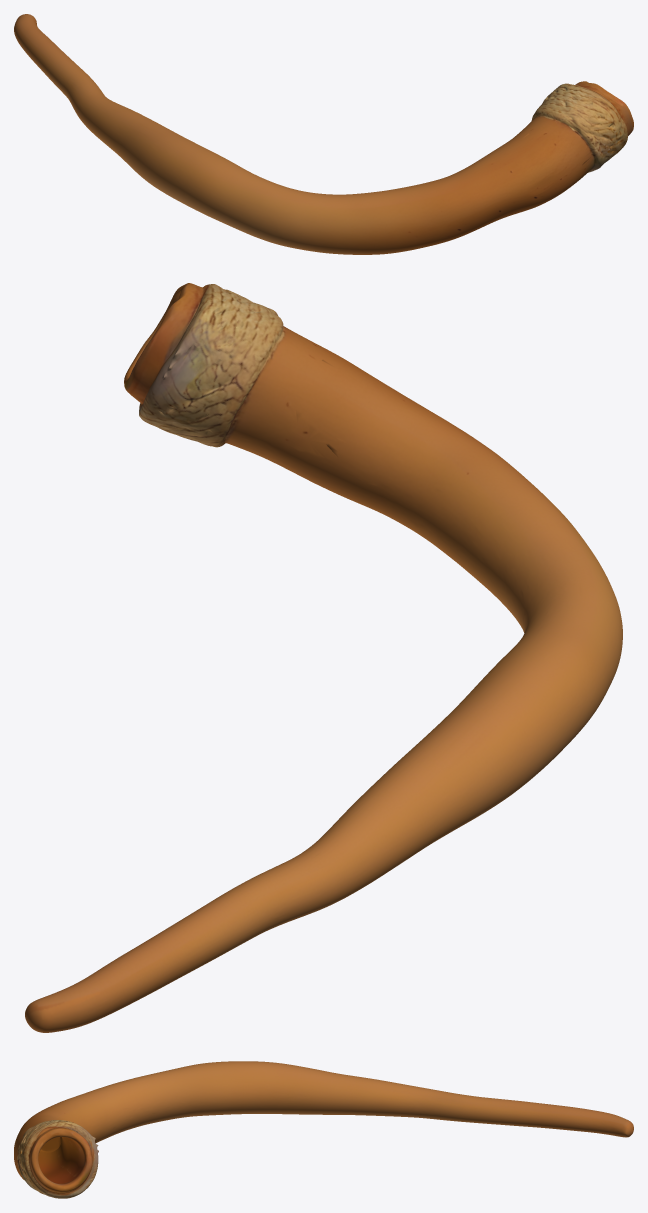
The model's file is koteka.glb.
The picture shows the model from 3 angles, top to bottom: view 1: azimuth 30°, elevation 25°; view 2: azimuth 150°, elevation 25°; view 3: azimuth 270°, elevation 25°; orthographic projection. The views are drawn at different scales.
Visible parts, largest first — view 1: material; view 2: material; view 3: material.
Part boxes in pixels (x1=…): material: x1=14, y1=14, x2=633, y2=254; material: x1=25, y1=283, x2=622, y2=1032; material: x1=14, y1=1061, x2=633, y2=1198.
Size of the model in its own units: 0.6328 by 0.2188 by 1.09.
Materials: 1 (1 with a texture image).
